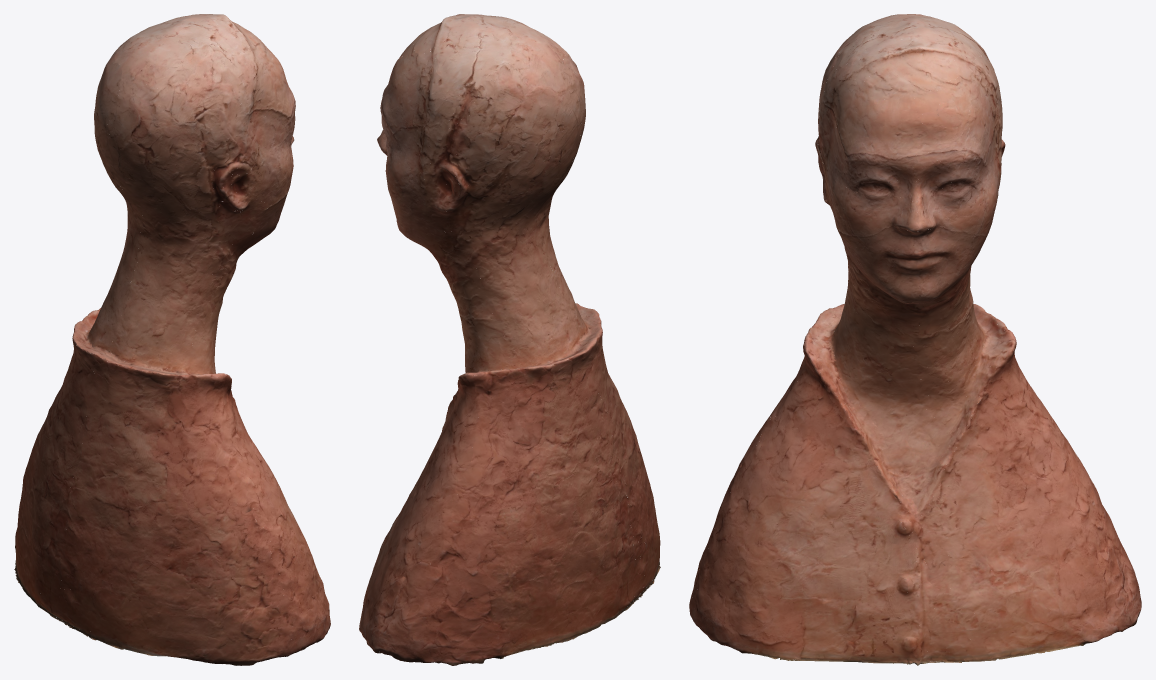
The model's file is jiwon1.glb.
The picture shows the model from 3 angles, left to right: view 1: azimuth 30°, elevation 25°; view 2: azimuth 150°, elevation 25°; view 3: azimuth 270°, elevation 25°; orthographic projection. The views are drawn at different scales.
Visible parts, largest first — view 1: Mesh_0_Part_0; view 2: Mesh_0_Part_0; view 3: Mesh_0_Part_0.
Part boxes in pixels (x1,y1,x2,y2): Mesh_0_Part_0: (14,14,330,665); Mesh_0_Part_0: (359,14,660,665); Mesh_0_Part_0: (689,14,1141,665).
Size of the model in its own units: 3.12 by 6.72 by 4.6.
1 material, 1 textured.
